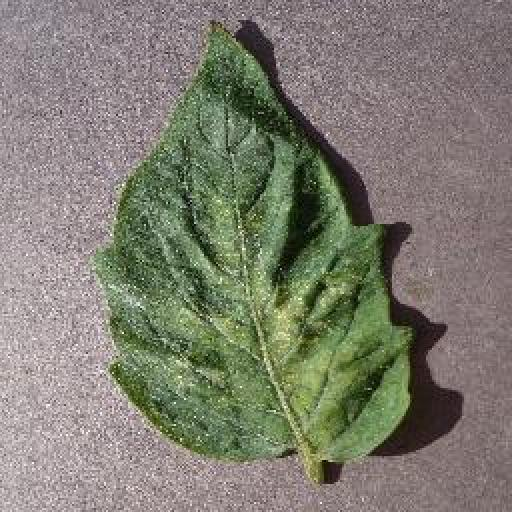disease_tomato: (92, 19, 412, 464)
